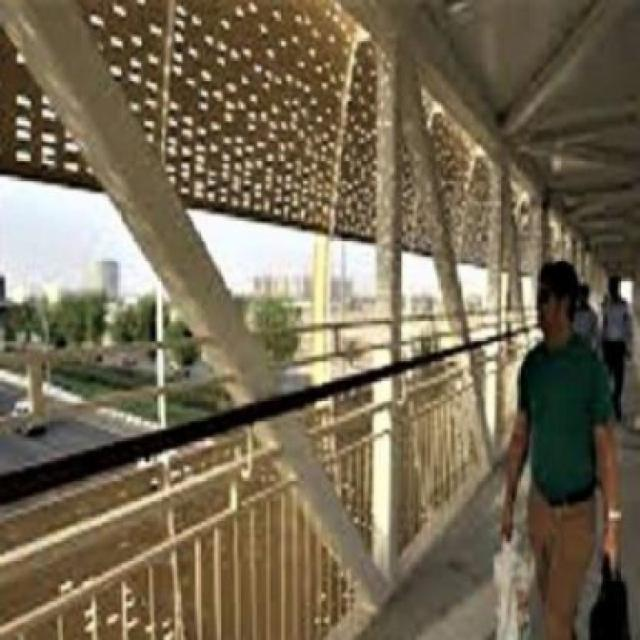Person: (478, 260, 637, 638)
